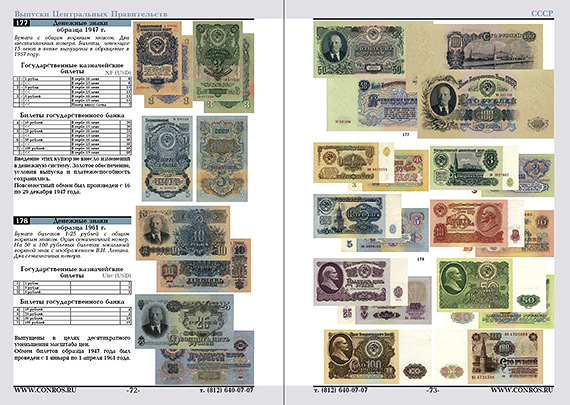cash: (417, 71, 554, 138), (405, 24, 542, 91), (449, 275, 556, 330), (323, 331, 431, 385), (435, 331, 543, 385), (438, 258, 546, 312), (135, 294, 234, 349), (155, 333, 254, 386), (137, 205, 230, 260), (326, 75, 417, 131), (315, 23, 406, 77), (158, 240, 251, 292), (336, 276, 434, 325), (313, 256, 408, 305), (430, 199, 524, 247), (461, 210, 555, 257), (197, 116, 247, 202), (143, 117, 193, 201), (341, 209, 430, 253), (312, 195, 401, 238), (430, 147, 519, 190), (467, 154, 555, 197), (194, 21, 241, 101), (133, 22, 182, 95), (349, 149, 429, 190), (314, 142, 394, 182)
